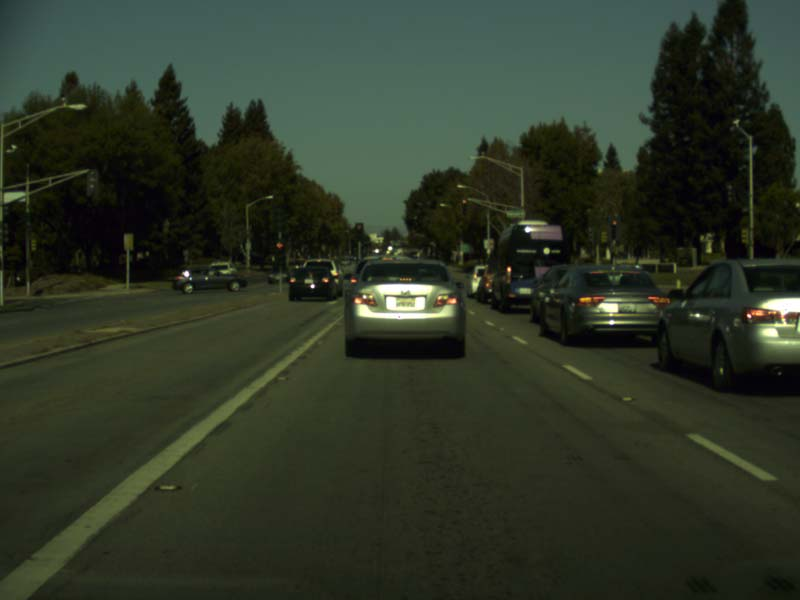Red: (273, 240, 286, 266), (607, 216, 620, 240), (355, 223, 363, 239), (461, 197, 466, 214)
